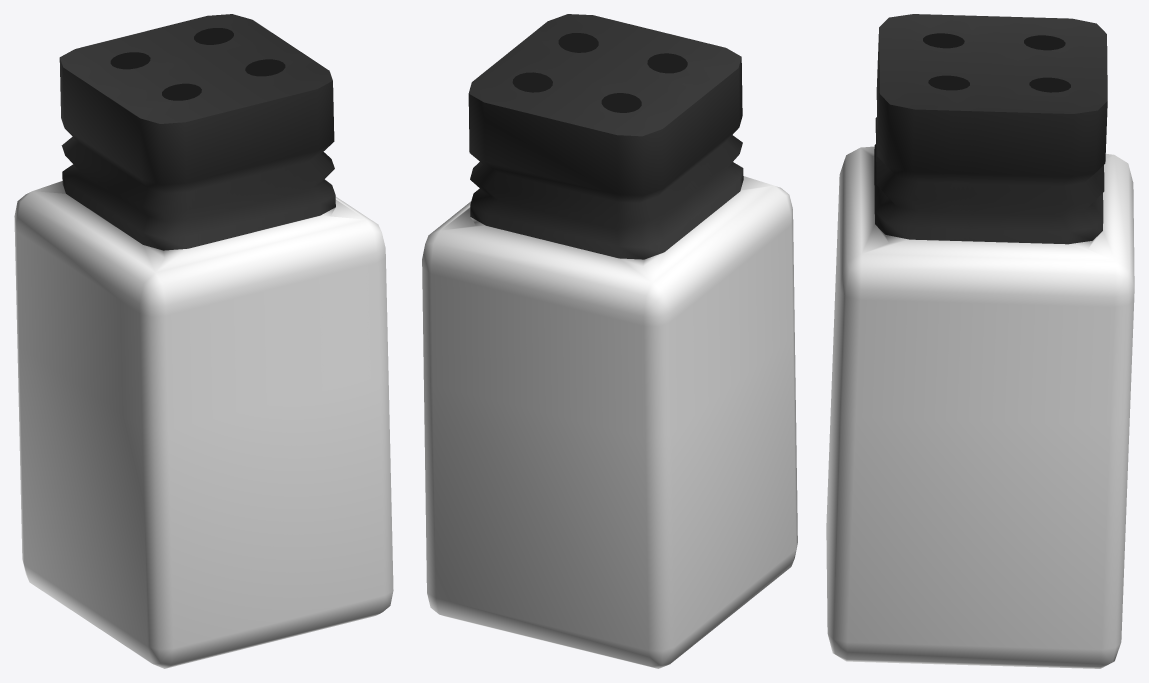
Rendered from white_salt.glb.
3 renders of one model, left to right at view 1: azimuth 30°, elevation 25°; view 2: azimuth 150°, elevation 25°; view 3: azimuth 270°, elevation 25°, orthographic. The views are drawn at different scales.
Visible parts, largest first — view 1: white_salt; view 2: white_salt; view 3: white_salt.
Part boxes in pixels (x1=…): white_salt: x1=14, y1=14, x2=393, y2=668; white_salt: x1=422, y1=14, x2=797, y2=668; white_salt: x1=826, y1=14, x2=1134, y2=668.
Size of the model in its own units: 0.295 by 0.6119 by 0.3062.
1 material, 1 textured.
